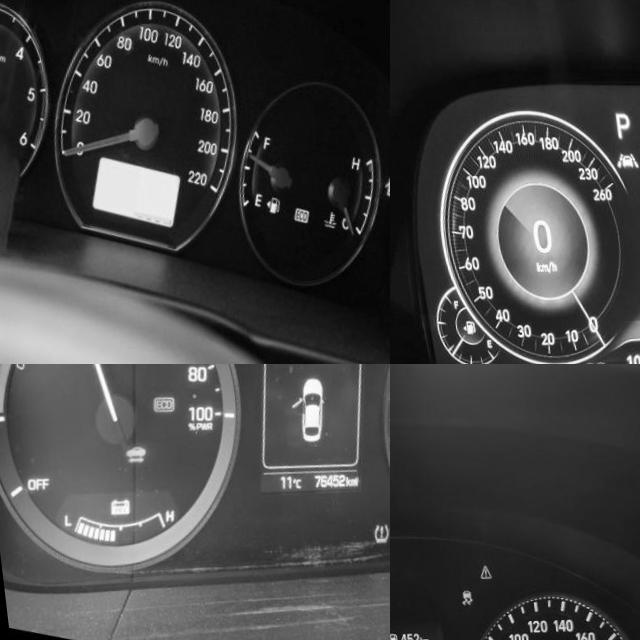Central Warning lamp: (472, 568, 485, 582)
Doors: (370, 177, 390, 201)
LaneCenteringOff: (610, 154, 634, 172)
